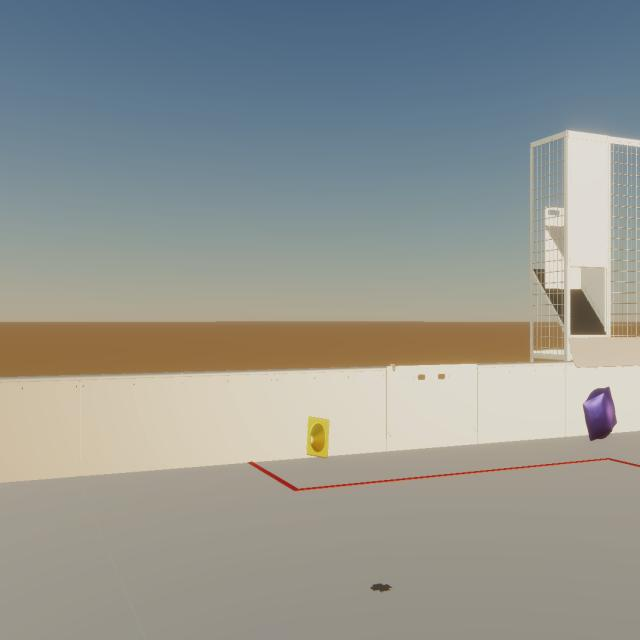frc_cone: (307, 417, 329, 458)
frc_cube: (583, 386, 617, 441)
